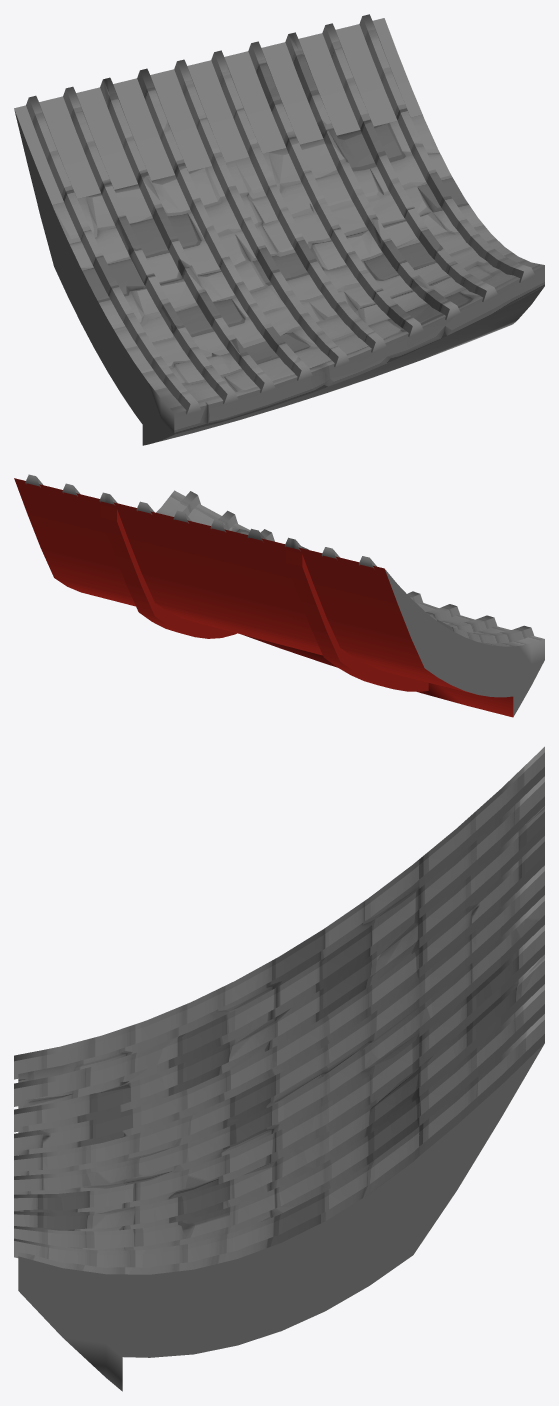
Rendered from SM_Bld_Kawara_S_Tip_Near_01.fbx.
3 renders of one model, top to bottom at view 1: azimuth 30°, elevation 25°; view 2: azimuth 150°, elevation 25°; view 3: azimuth 270°, elevation 25°, orthographic. The views are drawn at different scales.
Parts seen in each view (by area): view 1: SM_Bld_Kawara_S_Tip_Near_01; view 2: SM_Bld_Kawara_S_Tip_Near_01; view 3: SM_Bld_Kawara_S_Tip_Near_01.
Part boxes in pixels (x1,y1,x2,y2): SM_Bld_Kawara_S_Tip_Near_01: (14, 14, 544, 445); SM_Bld_Kawara_S_Tip_Near_01: (14, 474, 544, 717); SM_Bld_Kawara_S_Tip_Near_01: (14, 746, 544, 1391).
Size of the model in its own units: 5 by 3.23 by 3.78.
